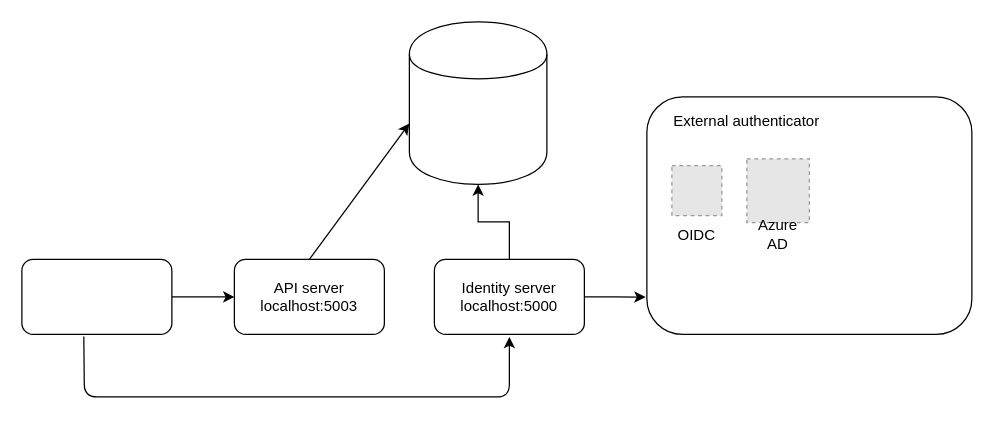
This 994x429 diagram has some shape labels left out. Grey dashed boxes stand in for pictures. Each missing label, with the centre of its shape:
"MVC client localhost:5002" goes at point 96,296.
"Permission and role data" goes at point 477,102.
